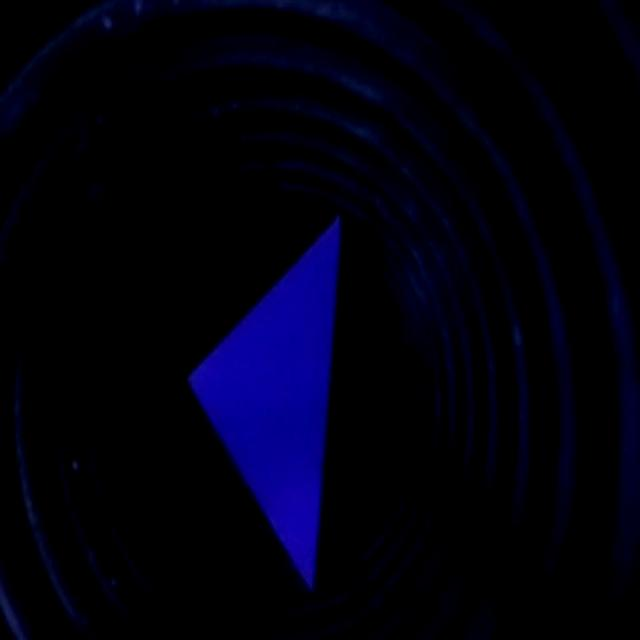obstacles: (183, 222, 342, 587)
